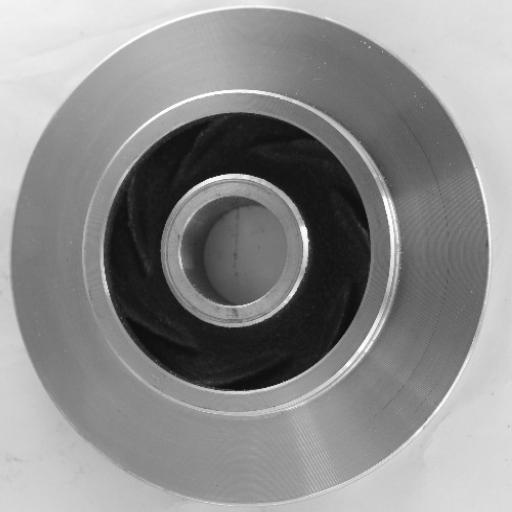polished_casting: (10, 6, 489, 508)
